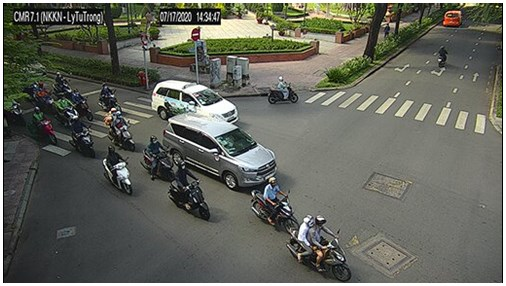xe_hoi: (162, 113, 278, 192), (442, 10, 463, 27)
xe_may: (287, 214, 354, 281), (250, 177, 300, 234), (168, 160, 211, 221), (140, 135, 175, 182), (102, 145, 133, 196), (102, 107, 136, 152), (27, 107, 58, 146), (70, 115, 96, 159), (53, 92, 80, 128), (268, 75, 299, 104), (68, 89, 93, 122), (97, 83, 123, 114), (51, 71, 74, 97), (437, 45, 449, 68)
xe_taxi: (150, 79, 239, 125)
